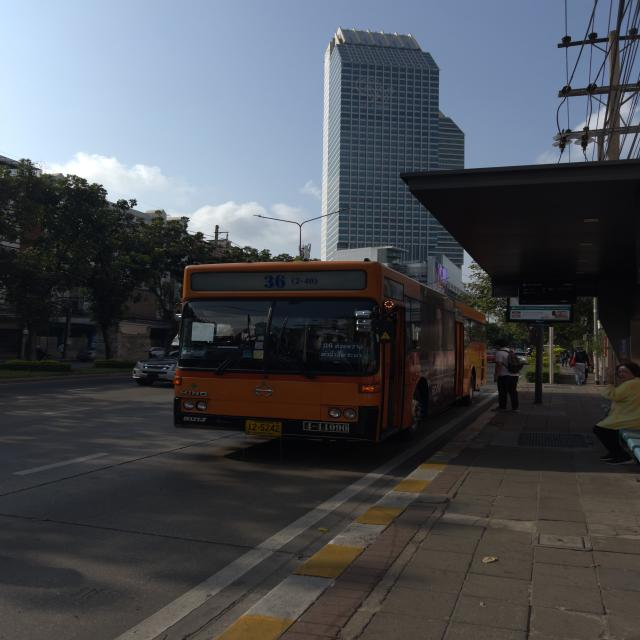BMTA-bus: (172, 259, 489, 448)
Bus-Line-Number: (261, 272, 320, 292)
Destination-Sign-Normal: (322, 340, 369, 362)
